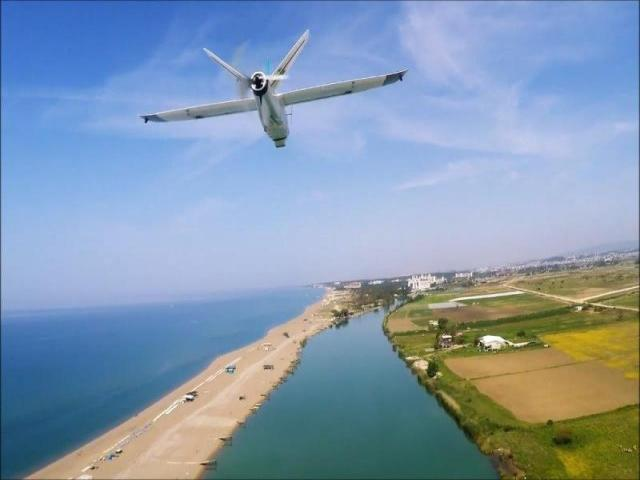hedef: (136, 33, 420, 175)
